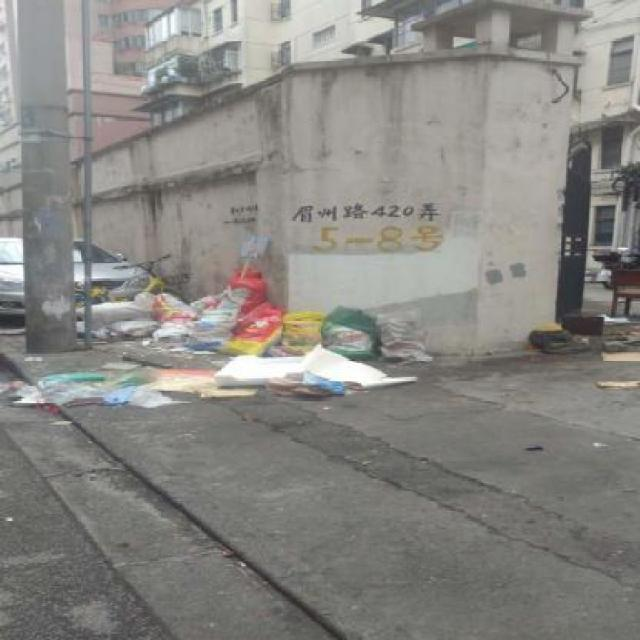garbage: (78, 279, 387, 404)
